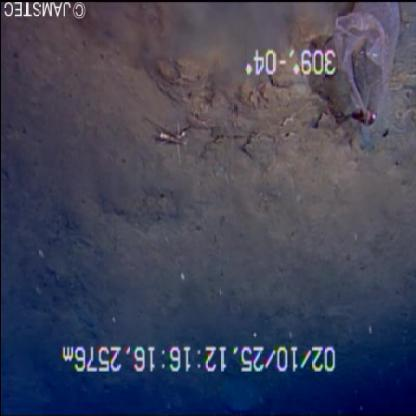Rác: (314, 1, 406, 139)
